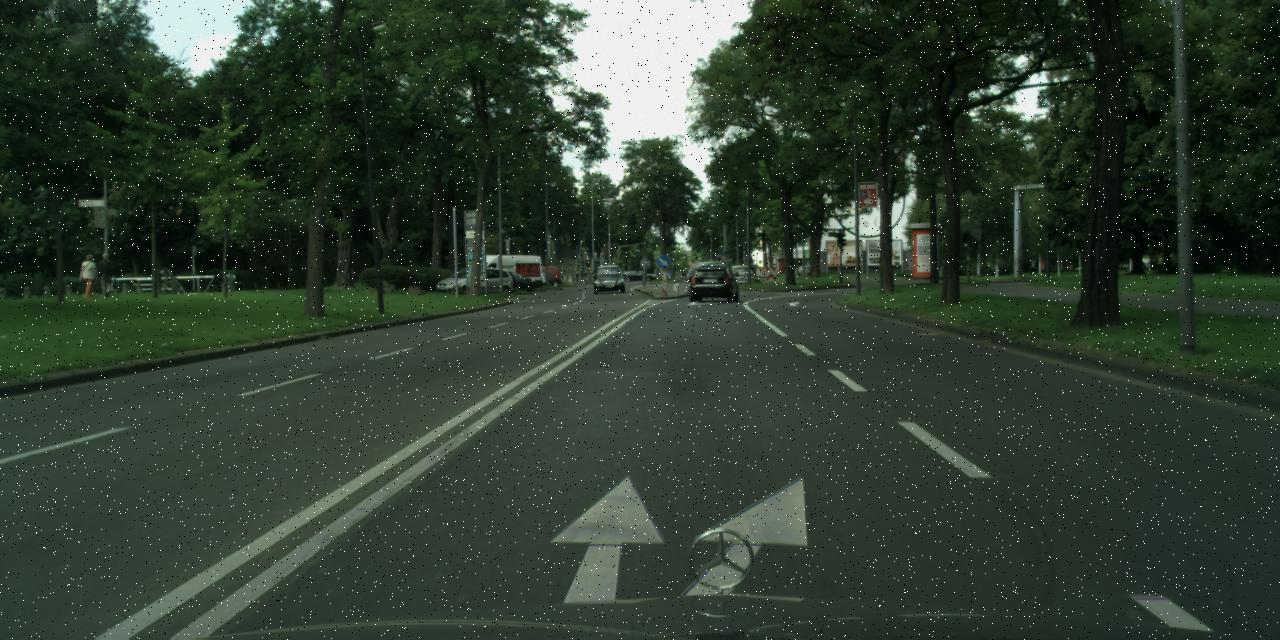ped: (80, 254, 98, 298), (97, 252, 114, 296)
